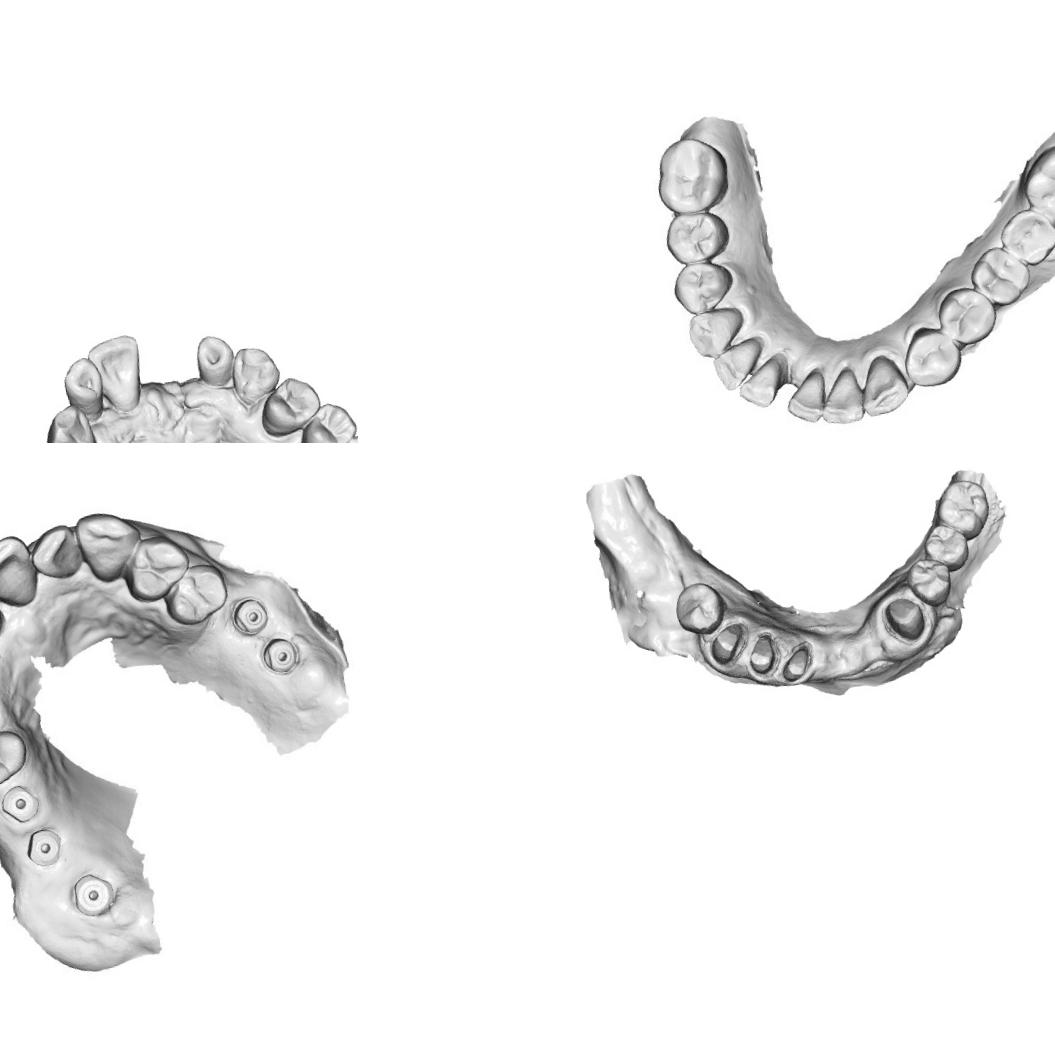canine: (74, 510, 142, 586), (226, 342, 286, 410), (686, 308, 743, 361), (39, 400, 101, 443), (861, 358, 911, 409)
crown: (878, 592, 931, 649), (706, 618, 753, 669), (742, 630, 783, 682), (774, 639, 818, 685)
implant: (69, 866, 116, 916), (24, 824, 68, 868), (230, 595, 269, 640), (260, 637, 301, 676), (3, 784, 38, 826)
incisor: (84, 332, 149, 418), (59, 353, 108, 426), (30, 523, 84, 583), (0, 534, 43, 609), (191, 331, 239, 392), (820, 372, 866, 424), (712, 341, 764, 387), (741, 358, 785, 402), (786, 374, 826, 422)
molar: (654, 135, 728, 215), (932, 476, 994, 544), (972, 244, 1030, 305), (1001, 209, 1055, 266), (1023, 146, 1055, 219)
premolar: (120, 531, 194, 604), (254, 372, 326, 440), (660, 206, 732, 266), (164, 562, 230, 627), (669, 256, 737, 312), (943, 282, 1002, 342), (902, 328, 963, 385), (671, 577, 728, 638), (902, 553, 956, 612), (918, 518, 972, 576), (294, 397, 358, 443), (0, 723, 30, 791)
